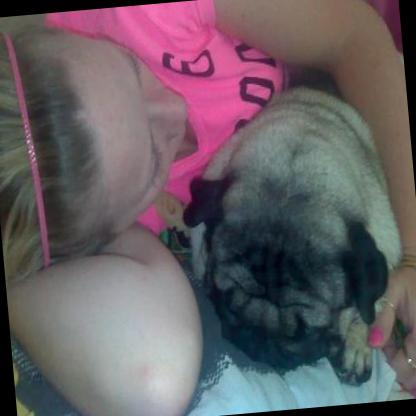pug: (172, 74, 416, 396)
